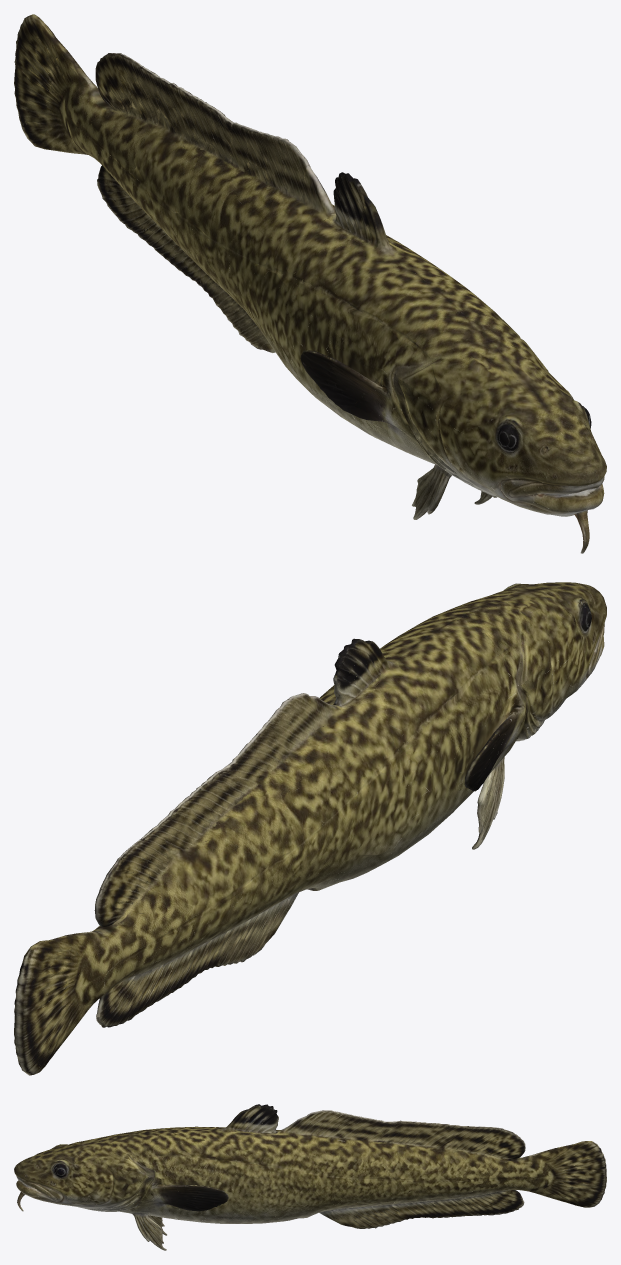
File: mietus.glb
3 views of the same model, one above another, from view 1: azimuth 30°, elevation 25°; view 2: azimuth 150°, elevation 25°; view 3: azimuth 270°, elevation 25° (orthographic). The views are drawn at different scales.
Parts seen in each view (by area): view 1: Mesh_0; view 2: Mesh_0; view 3: Mesh_0.
Boxes of the visible parts, x1,y1,x2,y2 form: Mesh_0: (14,14,606,553); Mesh_0: (14,582,606,1075); Mesh_0: (14,1104,606,1250).
Size of the model in its own units: 0.3325 by 0.491 by 1.9.
Materials: 1 (1 with a texture image).
